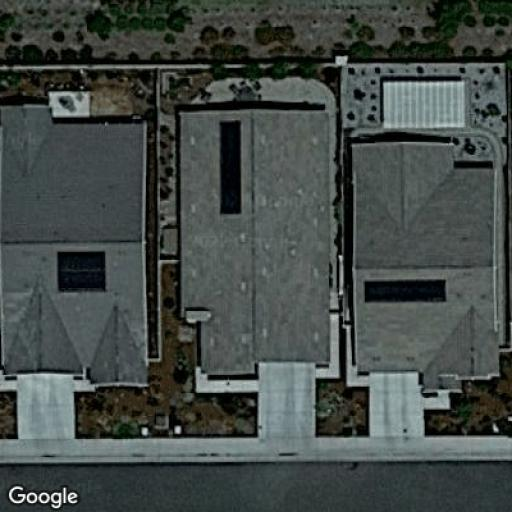solar-panel: (361, 275, 452, 307), (217, 118, 246, 218), (53, 248, 111, 297)
